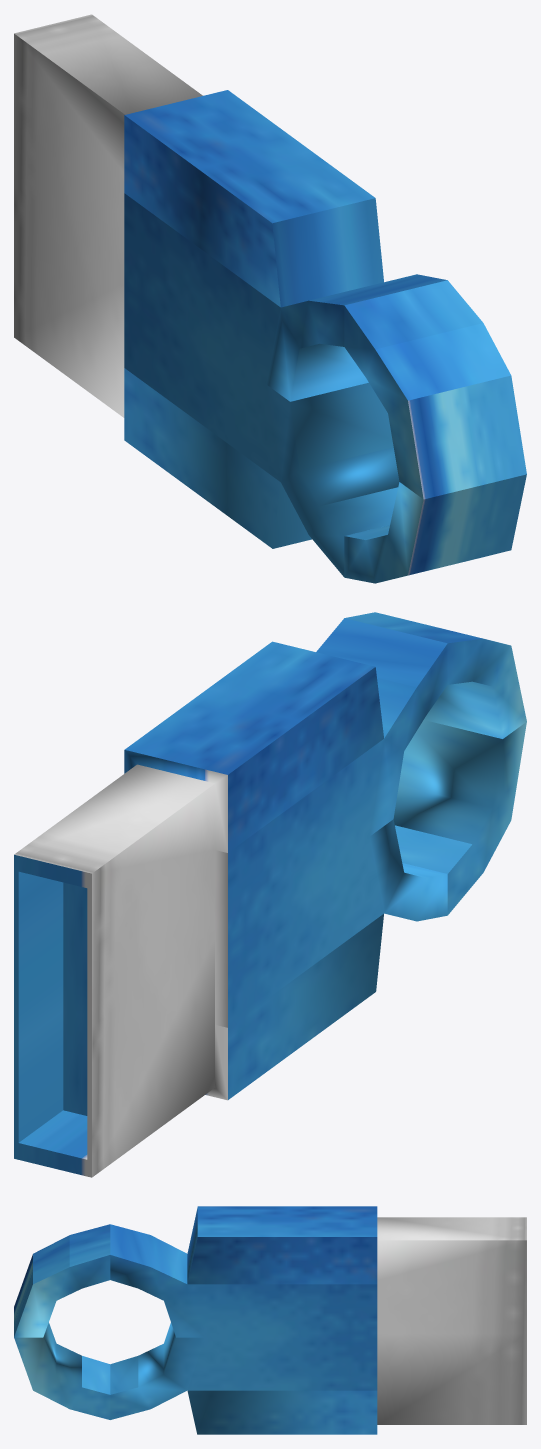
File: warp_drive.fbx
The picture shows the model from 3 angles, top to bottom: view 1: azimuth 30°, elevation 25°; view 2: azimuth 150°, elevation 25°; view 3: azimuth 270°, elevation 25°; orthographic projection. The views are drawn at different scales.
Visible parts, largest first — view 1: USB_Body; view 2: USB_Body; view 3: USB_Body.
Boxes of the visible parts, x1,y1,x2,y2 form: USB_Body: (14,14,526,583); USB_Body: (14,612,526,1177); USB_Body: (14,1206,526,1434).
Bounding box in the file's own units: 1.3 × 3.72 × 8.76.
